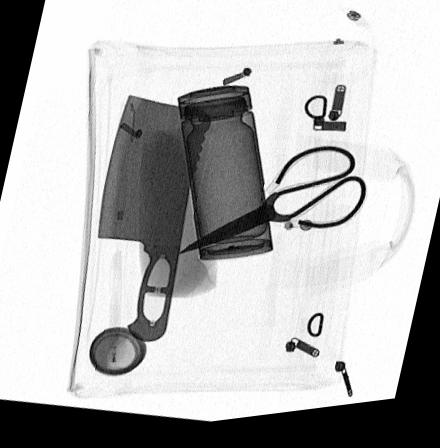Knife: (98, 96, 211, 345)
Scissors: (177, 153, 367, 258)
